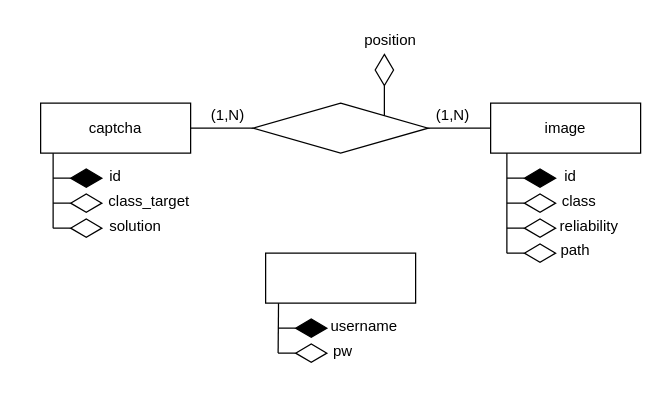
Some shapes in this 663 by 408 pixel diagram are drawn without their labels. Each missing label, with the box of its shape:
captcha_image: (252, 102, 428, 153)
user: (264, 252, 416, 303)
